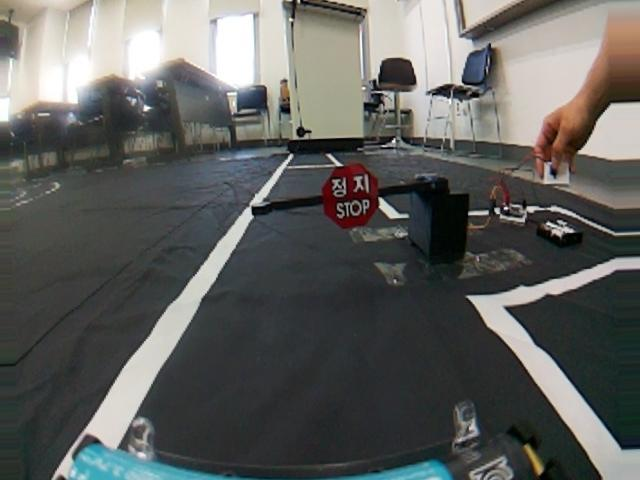sign_stop: (311, 161, 388, 230)
straight: (50, 309, 640, 476)
